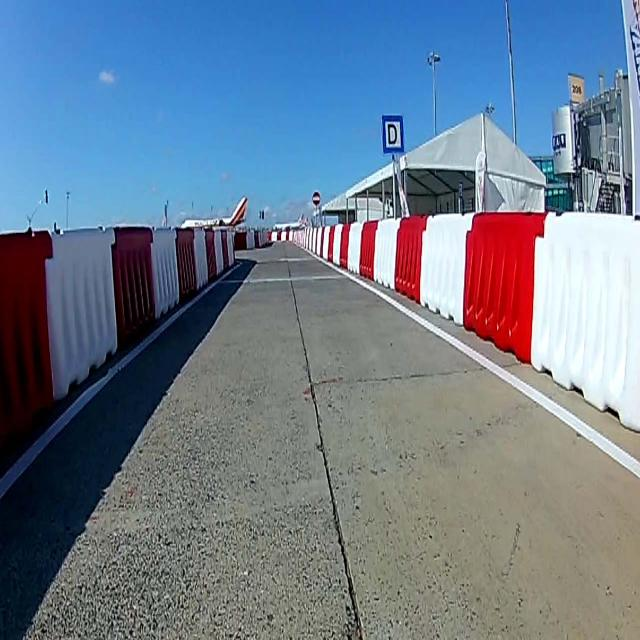durak: (381, 113, 405, 155)
girisyok: (311, 190, 321, 207)
